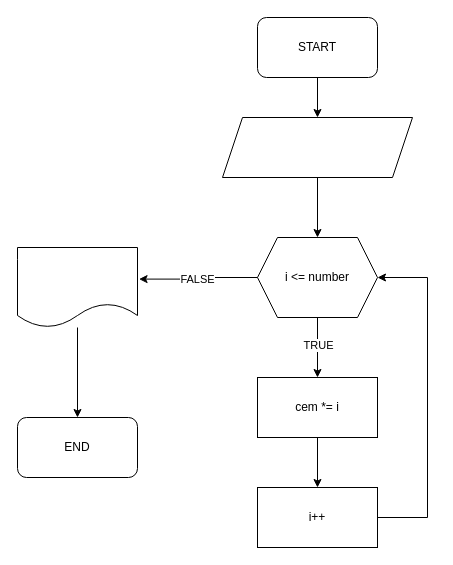
Some shapes in this 453 by 565 pixel diagram are drawn without their labels. The centre of each missing label's shape, as x and y in pixels:
cem: point (77, 287)
number, i = 1, cem =1: point (317, 147)
